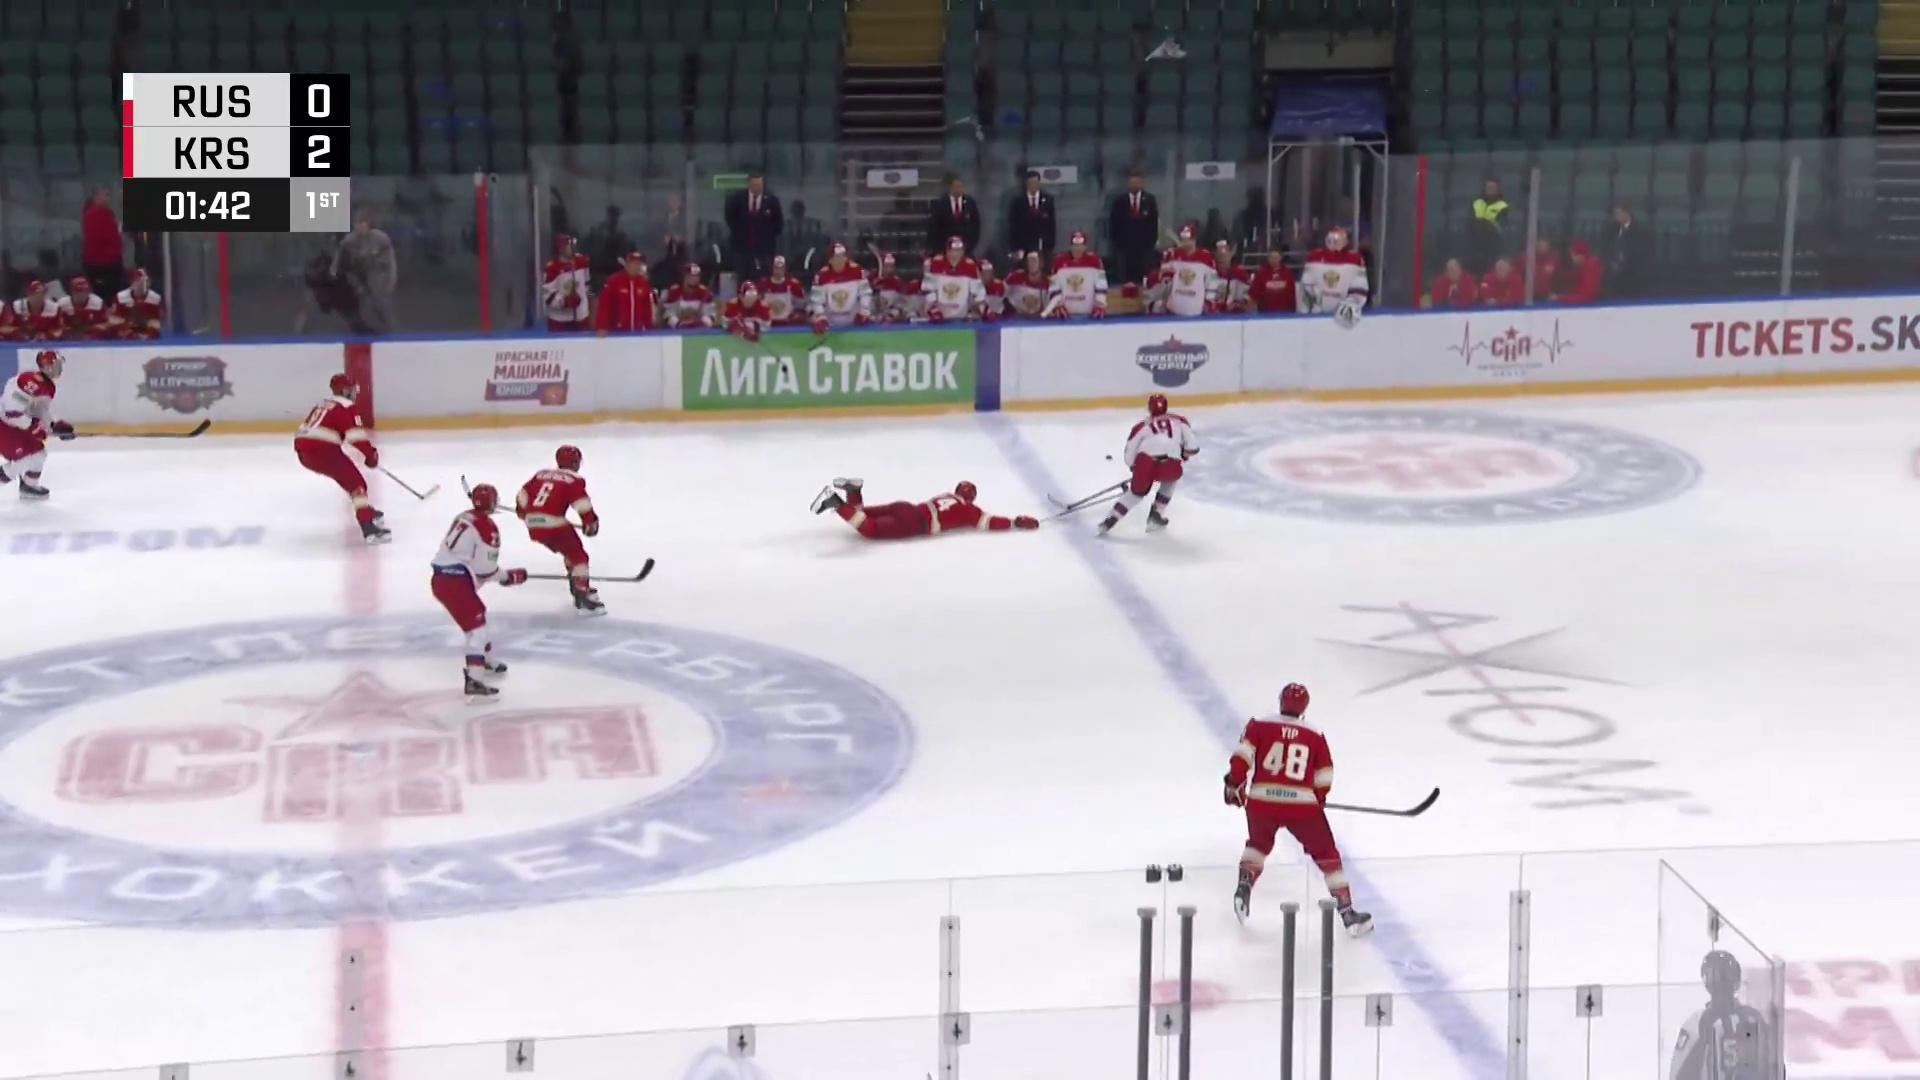ball: (1102, 454, 1116, 462)
